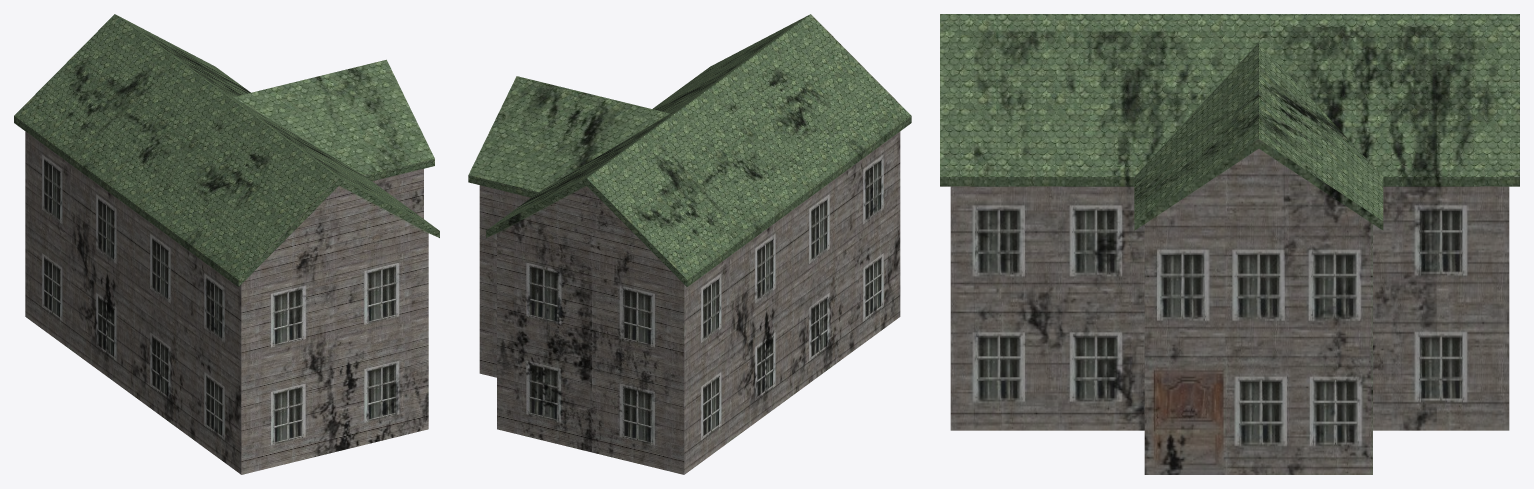
Rendered from PSX Old Abandoned Mansion.fbx.
The picture shows the model from 3 angles, left to right: view 1: azimuth 30°, elevation 25°; view 2: azimuth 150°, elevation 25°; view 3: azimuth 270°, elevation 25°; orthographic projection. The views are drawn at different scales.
Parts seen in each view (by area): view 1: PSX Old Abandoned Mansion; view 2: PSX Old Abandoned Mansion; view 3: PSX Old Abandoned Mansion.
Part boxes in pixels (bbox=[...]): PSX Old Abandoned Mansion: bbox=[14, 14, 439, 474]; PSX Old Abandoned Mansion: bbox=[468, 14, 911, 474]; PSX Old Abandoned Mansion: bbox=[940, 14, 1519, 474].
Bounding box in the file's own units: 580 × 565 × 830.
Materials: 1 (1 with a texture image).
